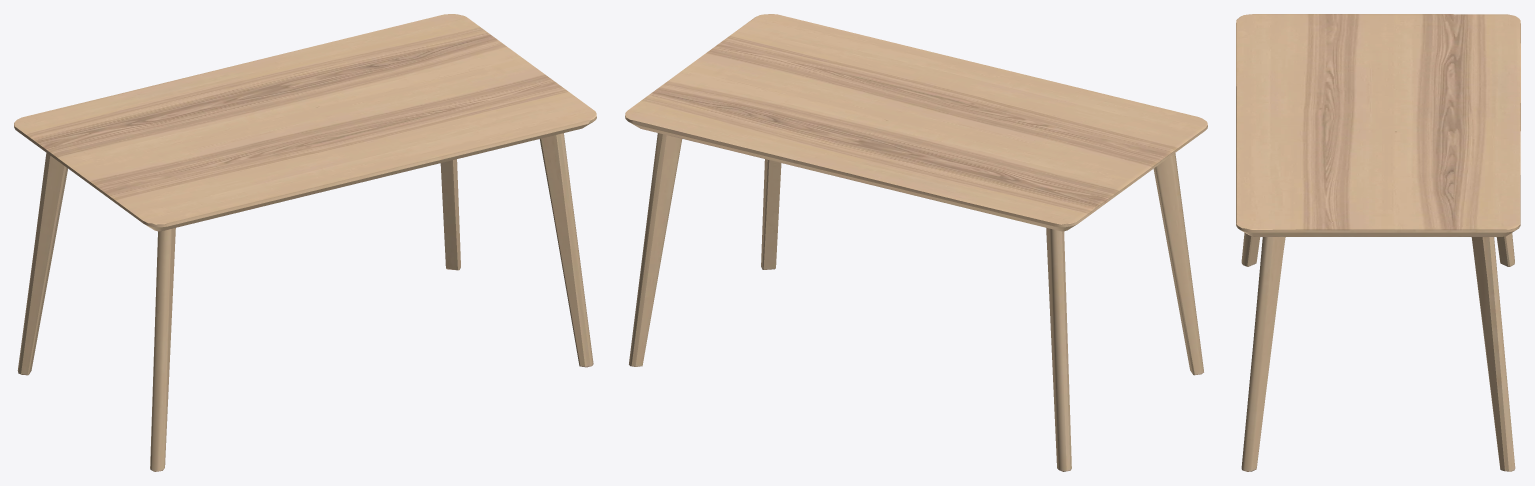
The picture shows the model from 3 angles, left to right: view 1: azimuth 30°, elevation 25°; view 2: azimuth 150°, elevation 25°; view 3: azimuth 270°, elevation 25°; orthographic projection.
Parts seen in each view (by area): view 1: ProcessedMeshNode; view 2: ProcessedMeshNode; view 3: ProcessedMeshNode.
Part boxes in pixels (x1,y1,x2,y2): ProcessedMeshNode: (14, 14, 596, 471); ProcessedMeshNode: (625, 14, 1207, 471); ProcessedMeshNode: (1236, 14, 1520, 471).
Bounding box in the file's own units: 1.4 × 0.7405 × 0.7804.
1 material, 1 textured.
